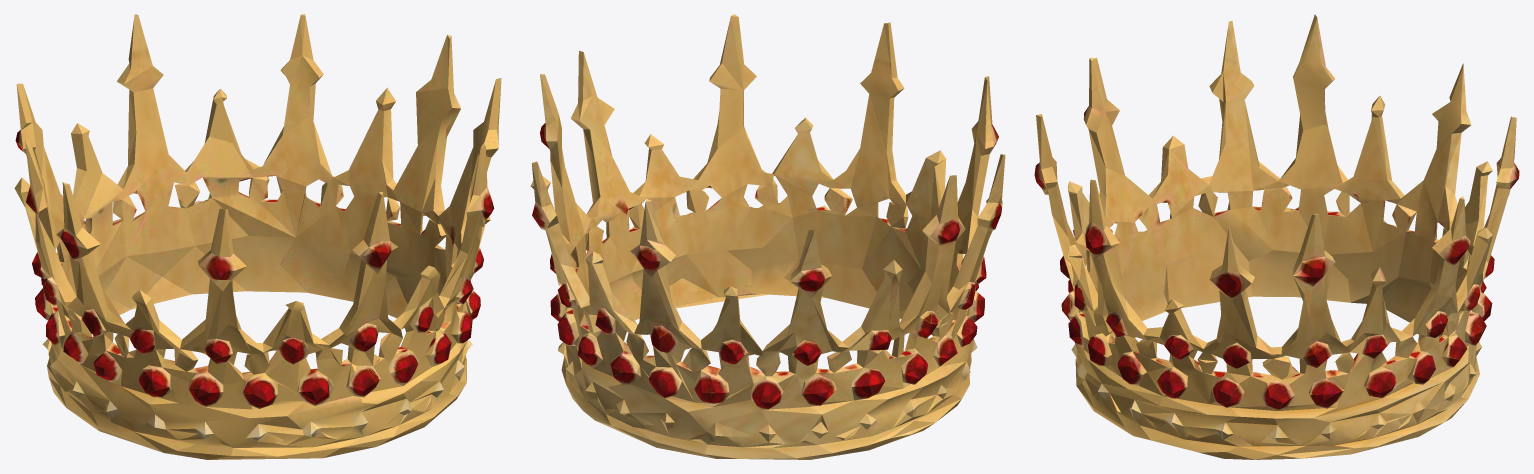
File: crown.glb
3 renders of one model, left to right at view 1: azimuth 30°, elevation 25°; view 2: azimuth 150°, elevation 25°; view 3: azimuth 270°, elevation 25°, orthographic. The views are drawn at different scales.
Bounding box in the file's own units: 1.89 × 1.13 × 1.88.
Materials: 1 (1 with a texture image).
